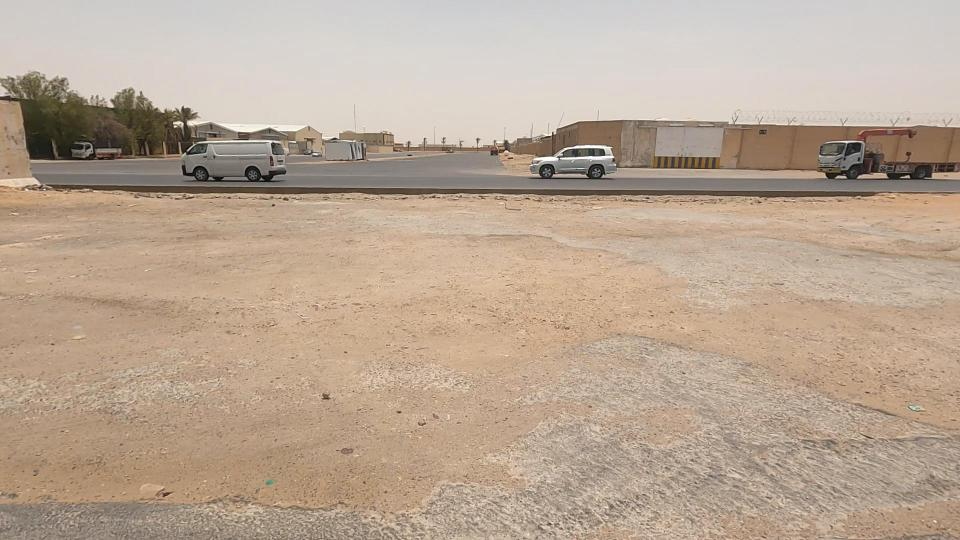CONSTRUCTION_ROAD: (266, 72, 960, 510), (0, 78, 522, 489)
